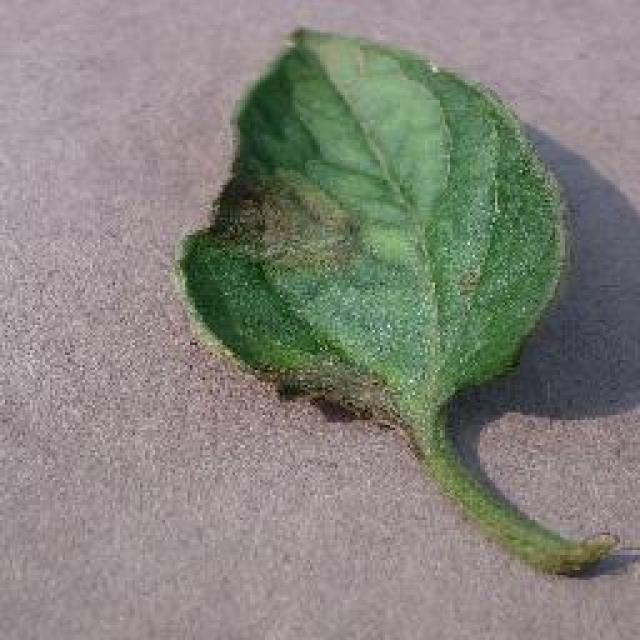Tomato Late Blight: (157, 167, 428, 495)
